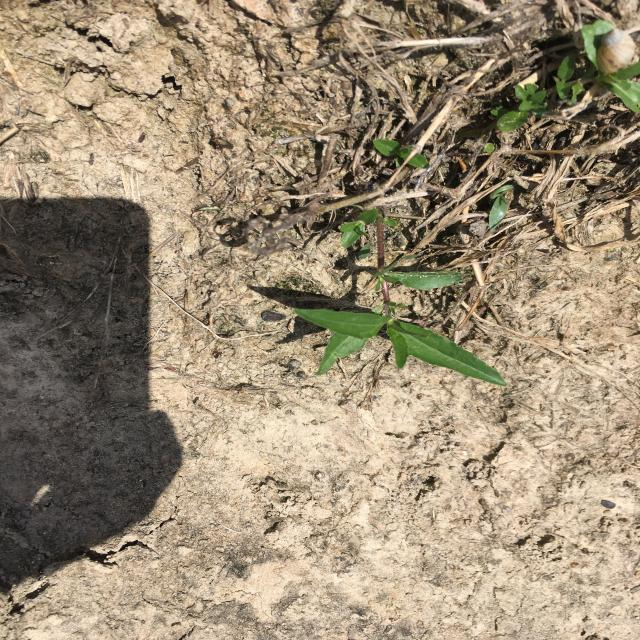Eclipta: (294, 209, 508, 387), (490, 19, 640, 132)
